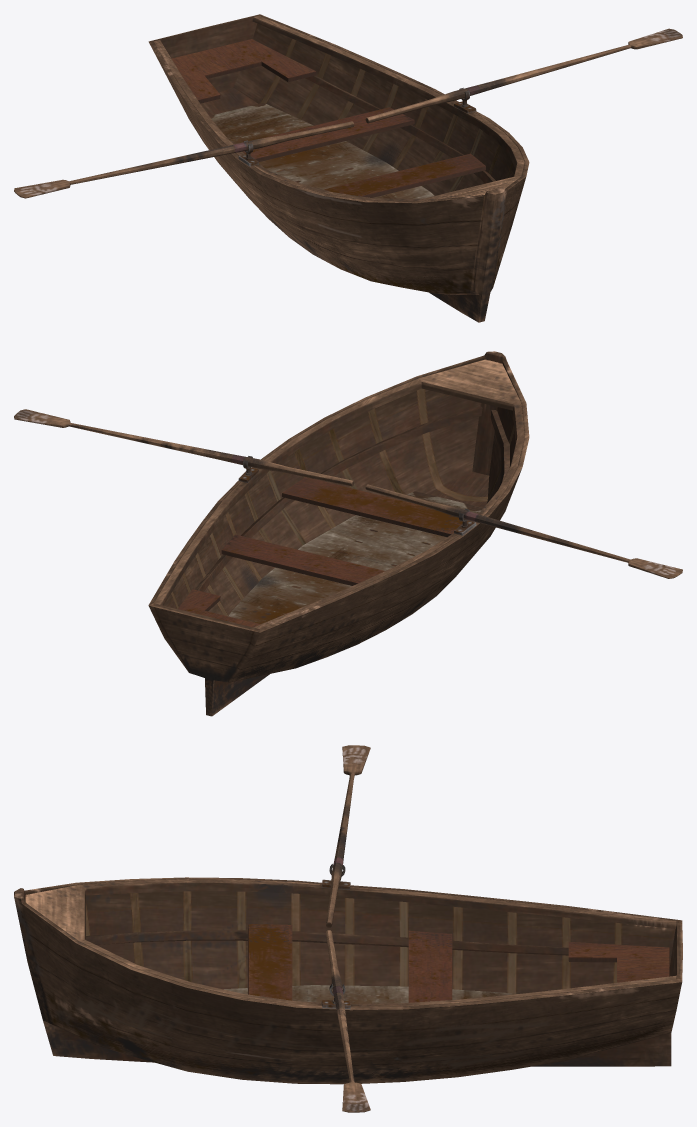
File: Boat2_blend.obj
The picture shows the model from 3 angles, top to bottom: view 1: azimuth 30°, elevation 25°; view 2: azimuth 150°, elevation 25°; view 3: azimuth 270°, elevation 25°; orthographic projection. The views are drawn at different scales.
Visible parts, largest first — view 1: polySurface51_meshId1_name, group6_meshId3_name, polySurface146_meshId0_name, group5_meshId2_name; view 2: polySurface51_meshId1_name, group6_meshId3_name, polySurface146_meshId0_name; view 3: polySurface51_meshId1_name, group6_meshId3_name, polySurface146_meshId0_name.
Boxes of the visible parts, box(x1,y1,x2,y2) form: polySurface51_meshId1_name: box(148, 14, 529, 322); group6_meshId3_name: box(14, 28, 682, 199); polySurface146_meshId0_name: box(153, 15, 524, 201); group5_meshId2_name: box(238, 87, 476, 166); polySurface51_meshId1_name: box(148, 351, 529, 716); group6_meshId3_name: box(14, 409, 682, 627); polySurface146_meshId0_name: box(154, 359, 524, 628); polySurface51_meshId1_name: box(14, 877, 682, 1084); group6_meshId3_name: box(224, 745, 669, 1112); polySurface146_meshId0_name: box(25, 879, 676, 1007).
Bounding box in the file's own units: 101 × 22.16 × 77.62.
Materials: 1 (1 with a texture image).
